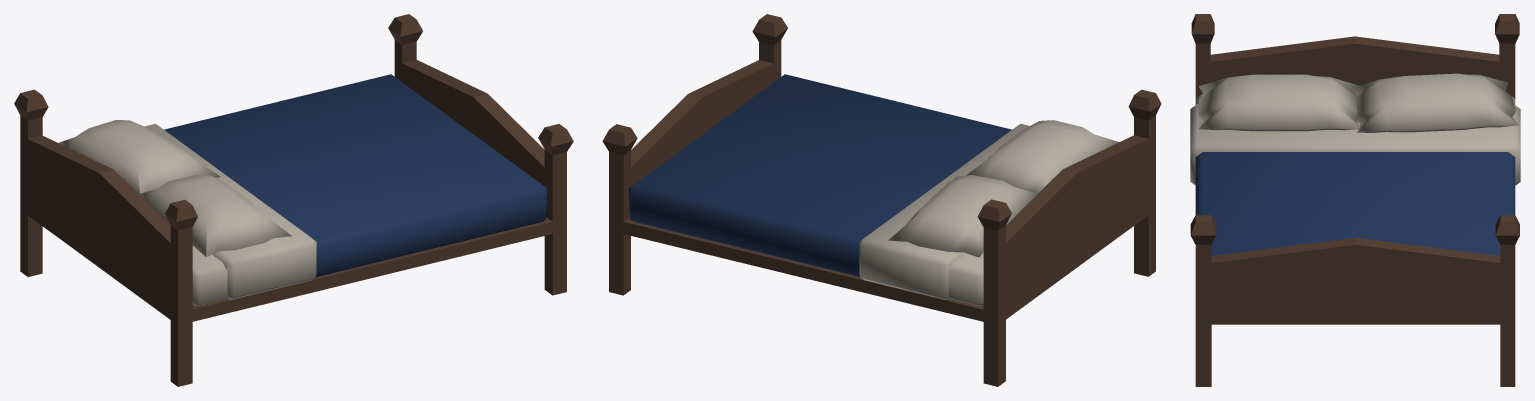
Rendered from S_Bed_03.fbx.
3 renders of one model, left to right at view 1: azimuth 30°, elevation 25°; view 2: azimuth 150°, elevation 25°; view 3: azimuth 270°, elevation 25°, orthographic.
Visible parts, largest first — view 1: S_Bed_03; view 2: S_Bed_03; view 3: S_Bed_03.
Part boxes in pixels (x1=…): S_Bed_03: x1=14, y1=14, x2=573, y2=386; S_Bed_03: x1=602, y1=14, x2=1161, y2=386; S_Bed_03: x1=1190, y1=14, x2=1520, y2=386.
Size of the model in its own units: 279 by 120 by 198.
